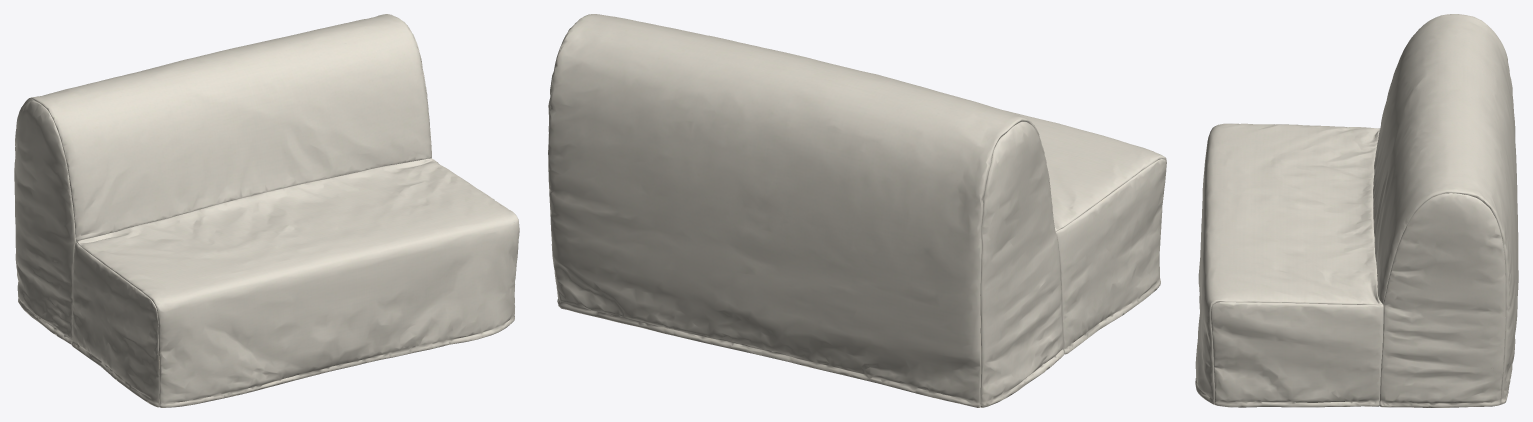
3 renders of one model, left to right at view 1: azimuth 30°, elevation 25°; view 2: azimuth 150°, elevation 25°; view 3: azimuth 270°, elevation 25°, orthographic. The views are drawn at different scales.
Parts seen in each view (by area): view 1: 10479675-LYCKSELE001; view 2: 10479675-LYCKSELE001; view 3: 10479675-LYCKSELE001.
Part boxes in pixels (left/top/right/bottom): 10479675-LYCKSELE001: left=14, top=14, right=519, bottom=407; 10479675-LYCKSELE001: left=548, top=14, right=1166, bottom=407; 10479675-LYCKSELE001: left=1195, top=14, right=1518, bottom=407.
Size of the model in its own units: 1.48 by 0.8632 by 1.11.
Materials: 1 (1 with a texture image).
